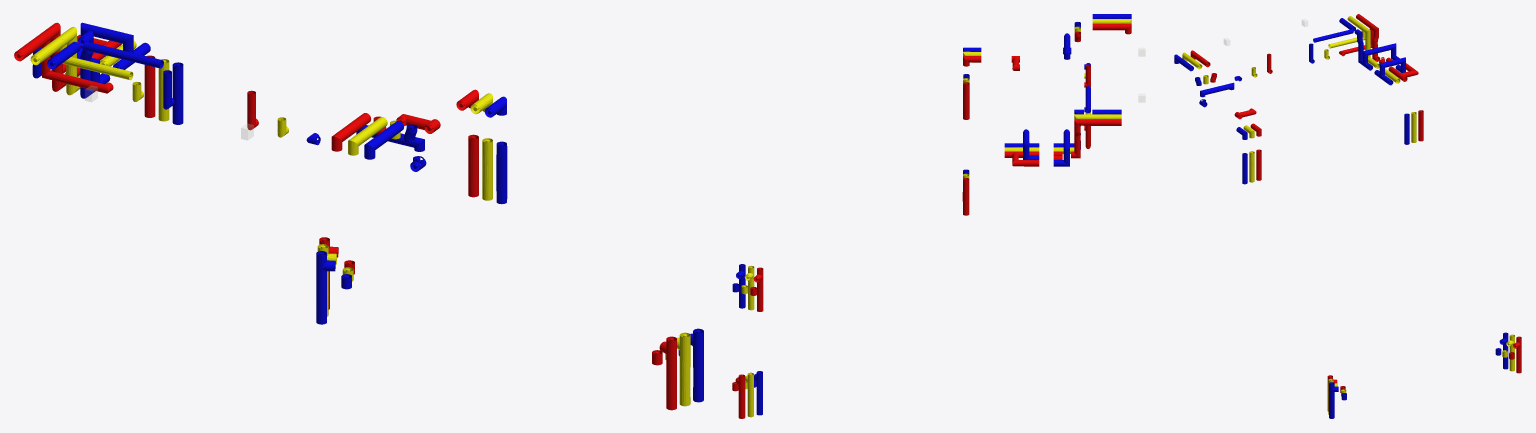
The picture shows the model from 3 angles, left to right: view 1: azimuth 30°, elevation 25°; view 2: azimuth 150°, elevation 25°; view 3: azimuth 270°, elevation 25°; orthographic projection. The views are drawn at different scales.
Parts seen in each view (by area): view 1: 1yjUN28kv3kgNlWo1XtJXS, 0x8POPXdb2FPqfeINuNzhq, 1h$83J1yTALRDnVmkI2awx, 0x8POPXdb2FPqfeINuNzhZ, 1h$83J1yTALRDnVmkI2awy, 0x8POPXdb2FPqfeINuNzhW, 0x8POPXdb2FPqfeINuNzfn, 0x8POPXdb2FPqfeINuNzhi, 1h$83J1yTALRDnVmkI2aw$, 0x8POPXdb2FPqfeINuNzf_, 1h$83J1yTALRDnVmkI2aw_; view 2: 1h$83J1yTALRDnVmkI2aw_, 1h$83J1yTALRDnVmkI2awx, 0x8POPXdb2FPqfeINuNzhZ, 0x8POPXdb2FPqfeINuNzhW, 1h$83J1yTALRDnVmkI2awy, 1h$83J1yTALRDnVmkI2aw$; view 3: 0x8POPXdb2FPqfeINuNzhq, 1yjUN28kv3kgNlWo1XtJXS, 1h$83J1yTALRDnVmkI2aw_, 0x8POPXdb2FPqfeINuNzhW.
Boxes of the visible parts, <box> form: 1yjUN28kv3kgNlWo1XtJXS: <box>468,134,507,204</box>; 0x8POPXdb2FPqfeINuNzhq: <box>144,55,183,124</box>; 1h$83J1yTALRDnVmkI2awx: <box>666,356,703,410</box>; 0x8POPXdb2FPqfeINuNzhZ: <box>14,33,80,69</box>; 1h$83J1yTALRDnVmkI2awy: <box>659,328,703,365</box>; 0x8POPXdb2FPqfeINuNzhW: <box>340,113,403,146</box>; 0x8POPXdb2FPqfeINuNzfn: <box>83,41,163,68</box>; 0x8POPXdb2FPqfeINuNzhi: <box>331,130,379,159</box>; 1h$83J1yTALRDnVmkI2aw$: <box>316,237,338,280</box>; 0x8POPXdb2FPqfeINuNzf_: <box>66,57,133,80</box>; 1h$83J1yTALRDnVmkI2aw_: <box>316,271,329,324</box>; 1h$83J1yTALRDnVmkI2aw_: <box>738,388,762,418</box>; 1h$83J1yTALRDnVmkI2awx: <box>739,280,763,311</box>; 0x8POPXdb2FPqfeINuNzhZ: <box>1092,109,1121,125</box>; 0x8POPXdb2FPqfeINuNzhW: <box>1092,14,1121,30</box>; 1h$83J1yTALRDnVmkI2awy: <box>736,264,763,285</box>; 1h$83J1yTALRDnVmkI2aw$: <box>735,371,762,391</box>; 0x8POPXdb2FPqfeINuNzhq: <box>1404,110,1423,144</box>; 1yjUN28kv3kgNlWo1XtJXS: <box>1242,149,1261,184</box>; 1h$83J1yTALRDnVmkI2aw_: <box>1503,346,1521,373</box>; 0x8POPXdb2FPqfeINuNzhW: <box>1177,53,1210,71</box>.
Size of the model in its own units: 56.06 by 39.65 by 51.1.
